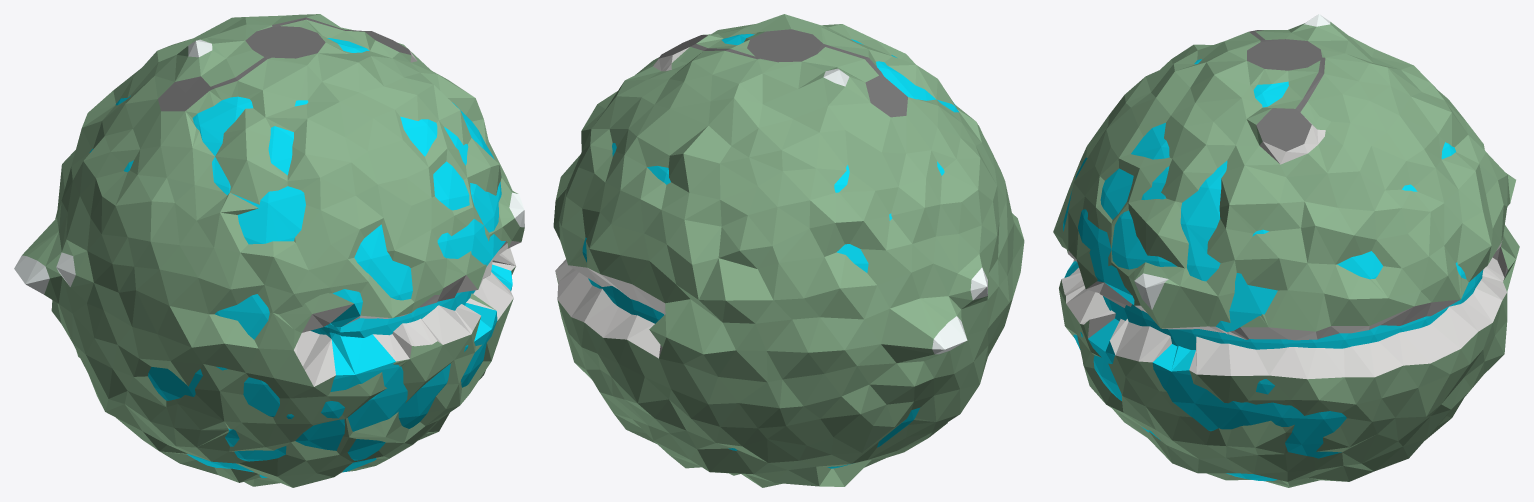
Rendered from planet.dae.
3 renders of one model, left to right at view 1: azimuth 30°, elevation 25°; view 2: azimuth 150°, elevation 25°; view 3: azimuth 270°, elevation 25°, orthographic. The views are drawn at different scales.
Visible parts, largest first — view 1: planet5; view 2: planet5; view 3: planet5.
Boxes of the visible parts, x1=… form: planet5: x1=14, y1=14, x2=524, y2=487; planet5: x1=553, y1=14, x2=1024, y2=487; planet5: x1=1053, y1=14, x2=1519, y2=487.
Size of the model in its own units: 650 by 636 by 634.
